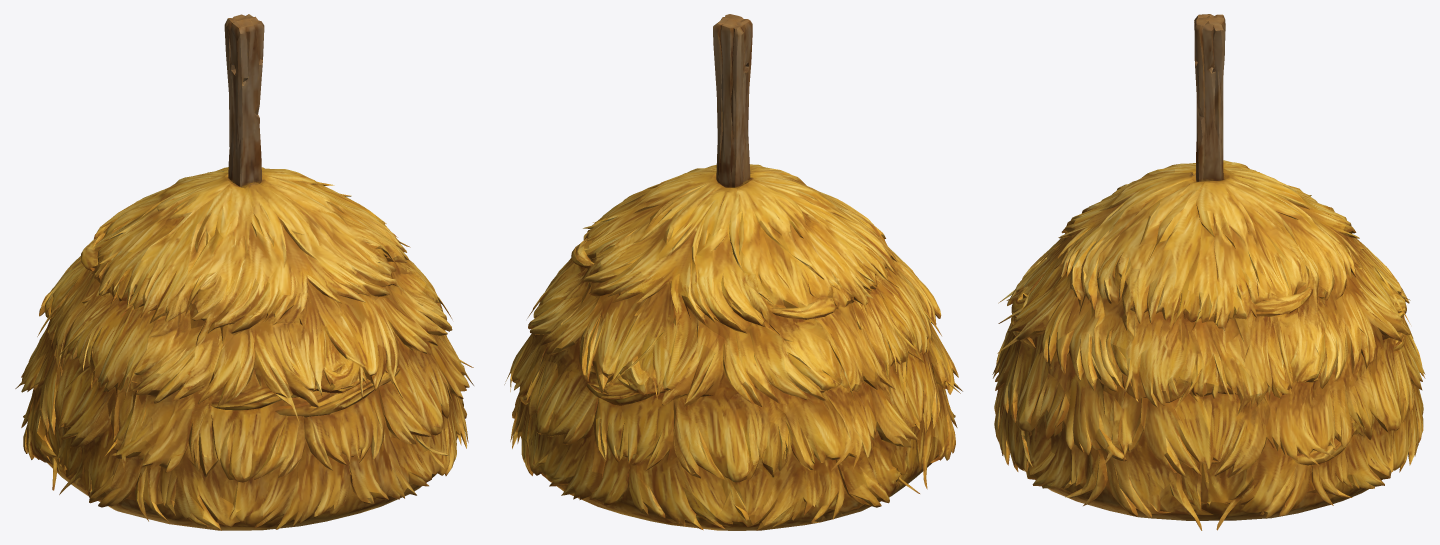
Rendered from SM_Haystack.fbx.
3 renders of one model, left to right at view 1: azimuth 30°, elevation 25°; view 2: azimuth 150°, elevation 25°; view 3: azimuth 270°, elevation 25°, orthographic.
Parts seen in each view (by area): view 1: SM_Haystack_LOD0; view 2: SM_Haystack_LOD0; view 3: SM_Haystack_LOD0.
Boxes of the visible parts, x1=… form: SM_Haystack_LOD0: x1=15, y1=14, x2=473, y2=530; SM_Haystack_LOD0: x1=504, y1=14, x2=962, y2=530; SM_Haystack_LOD0: x1=992, y1=14, x2=1425, y2=530.
Size of what is drawn, in the model's own units: 168 by 168 by 180.
